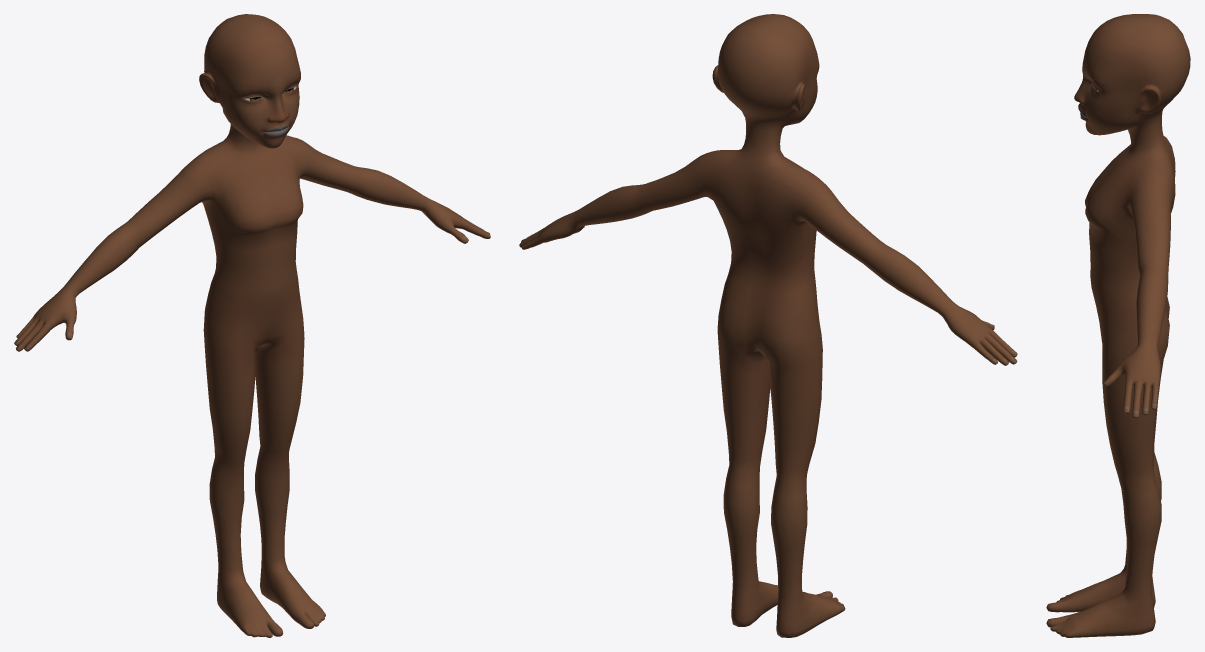
File: frame_0048.glb
3 renders of one model, left to right at view 1: azimuth 30°, elevation 25°; view 2: azimuth 150°, elevation 25°; view 3: azimuth 270°, elevation 25°, orthographic. The views are drawn at different scales.
Parts seen in each view (by area): view 1: frame_0048_head_geo; view 2: frame_0048_head_geo; view 3: frame_0048_head_geo.
Boxes of the visible parts, x1,y1,x2,y2 form: frame_0048_head_geo: (14, 14, 490, 637); frame_0048_head_geo: (519, 14, 1017, 637); frame_0048_head_geo: (1046, 14, 1190, 637).
Size of the model in its own units: 1.28 by 1.5 by 0.3253.
Materials: 3 (3 with a texture image).
